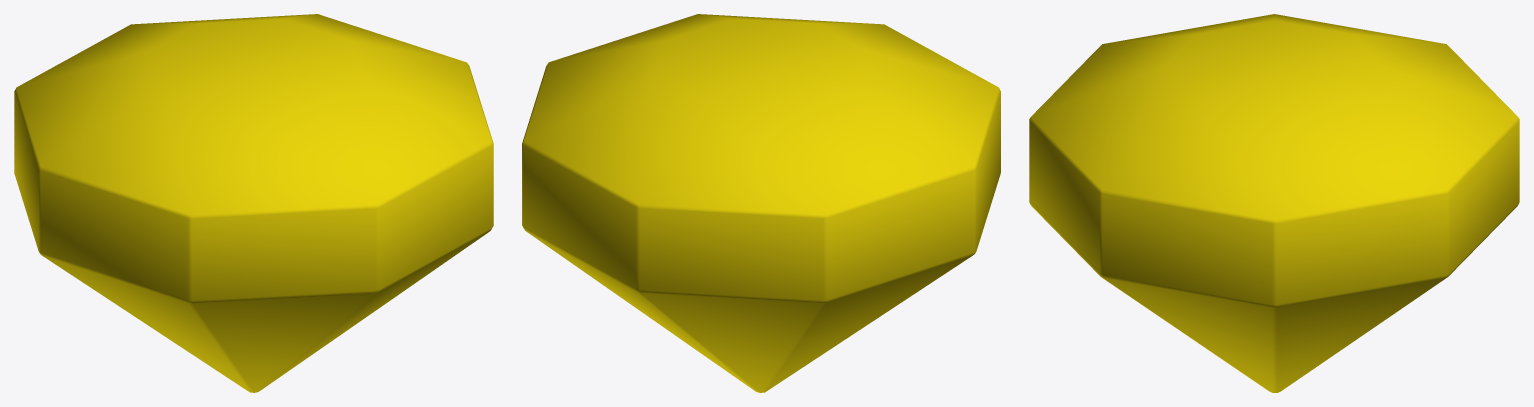
Rendered from jewelry2.fbx.
3 renders of one model, left to right at view 1: azimuth 30°, elevation 25°; view 2: azimuth 150°, elevation 25°; view 3: azimuth 270°, elevation 25°, orthographic.
Visible parts, largest first — view 1: 円.001; view 2: 円.001; view 3: 円.001.
Boxes of the visible parts, x1=… form: 円.001: x1=14, y1=14, x2=493, y2=392; 円.001: x1=522, y1=14, x2=1000, y2=392; 円.001: x1=1029, y1=14, x2=1519, y2=392.
Bounding box in the file's own units: 199 × 145 × 199.
